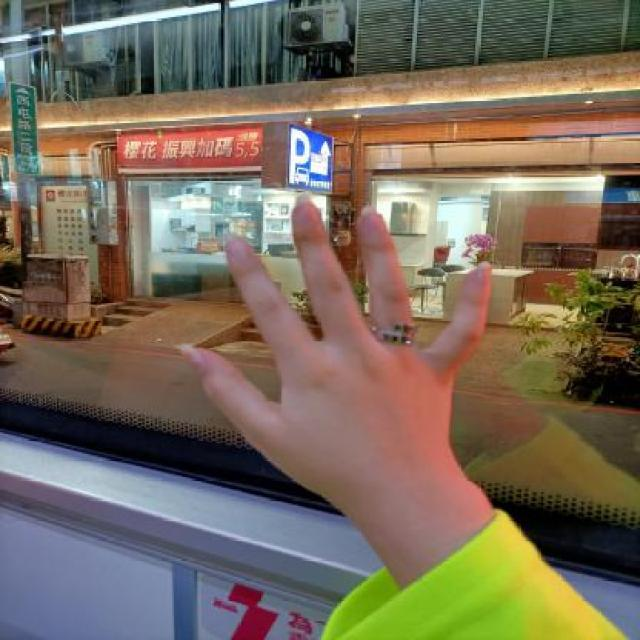bare_hand: (172, 180, 508, 546)
